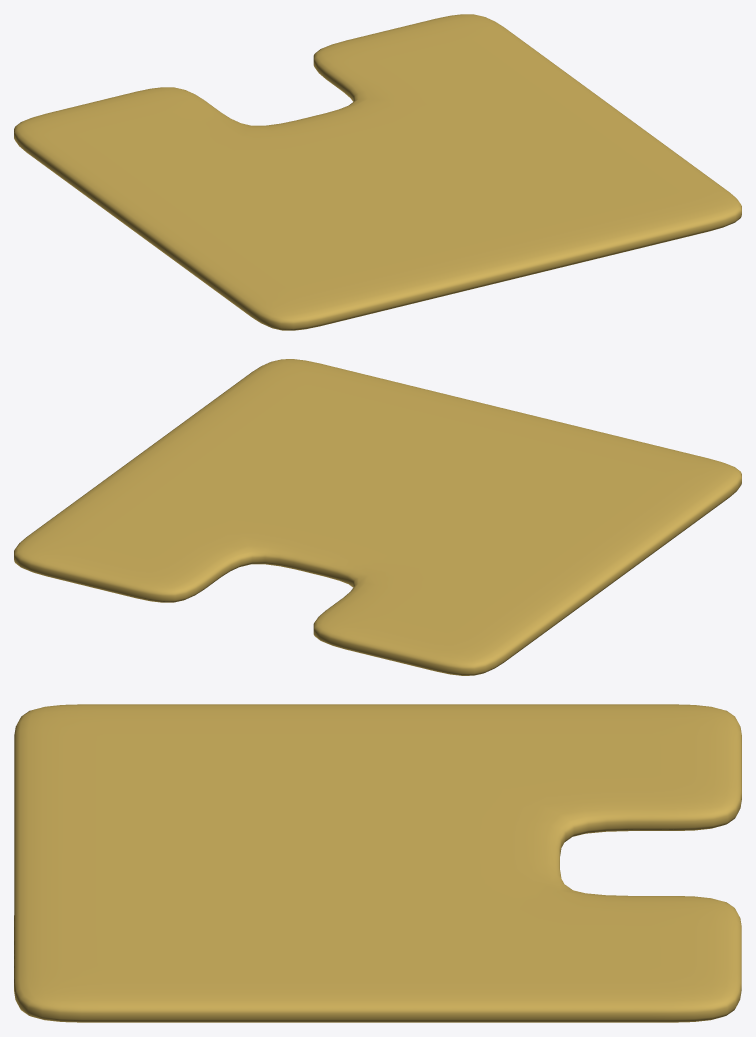
The model's file is GoldenPuzzle-23-OOOF.fbx.
3 renders of one model, top to bottom at view 1: azimuth 30°, elevation 25°; view 2: azimuth 150°, elevation 25°; view 3: azimuth 270°, elevation 25°, orthographic. The views are drawn at different scales.
Visible parts, largest first — view 1: Puzzle_023; view 2: Puzzle_023; view 3: Puzzle_023.
Boxes of the visible parts, x1,y1,x2,y2 form: Puzzle_023: (14, 14, 741, 330); Puzzle_023: (14, 359, 741, 675); Puzzle_023: (14, 704, 741, 1022).
Size of the model in its own units: 0.25 by 0.00924 by 0.251.
